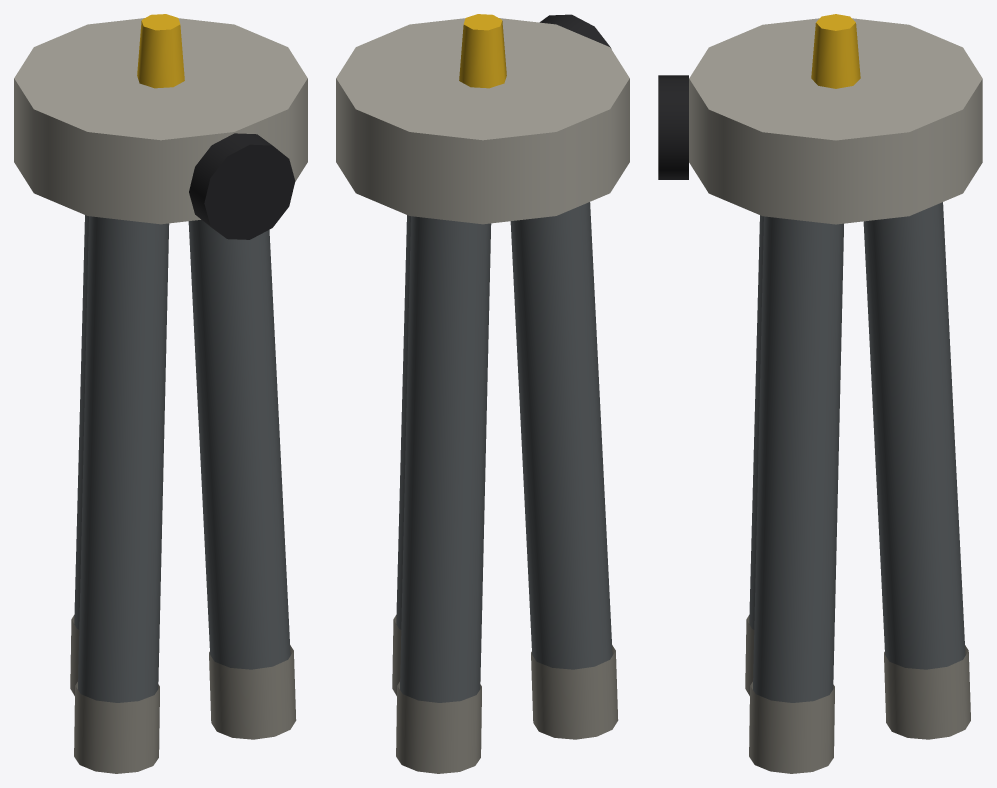
File: tokyo_pier_pilings.glb
3 renders of one model, left to right at view 1: azimuth 30°, elevation 25°; view 2: azimuth 150°, elevation 25°; view 3: azimuth 270°, elevation 25°, orthographic.
Parts seen in each view (by area): view 1: tokyo_pier_pilings; view 2: tokyo_pier_pilings; view 3: tokyo_pier_pilings.
Part boxes in pixels (x1,y1,x2,y2): tokyo_pier_pilings: (14, 14, 307, 773); tokyo_pier_pilings: (336, 14, 629, 773); tokyo_pier_pilings: (658, 14, 982, 773).
Bounding box in the file's own units: 1.9 × 5.01 × 2.1.
Materials: 1 (1 with a texture image).
